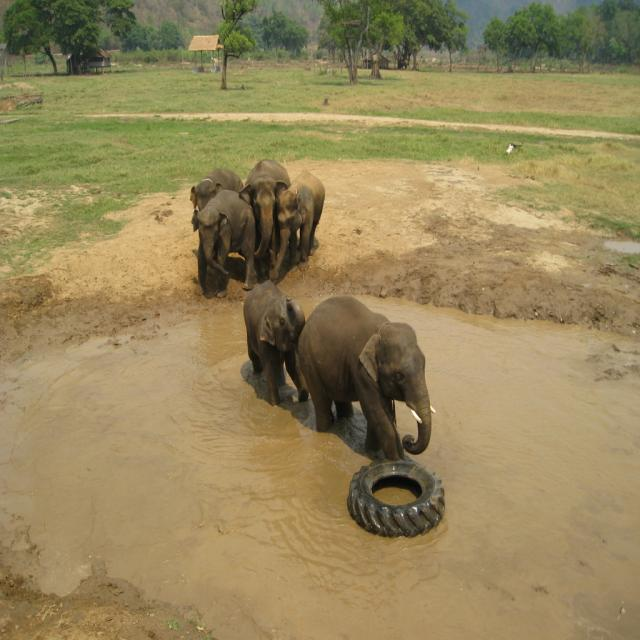elephant: (284, 288, 434, 472), (241, 278, 307, 413), (192, 184, 261, 298), (264, 168, 330, 264), (234, 157, 290, 259), (192, 166, 246, 237)
